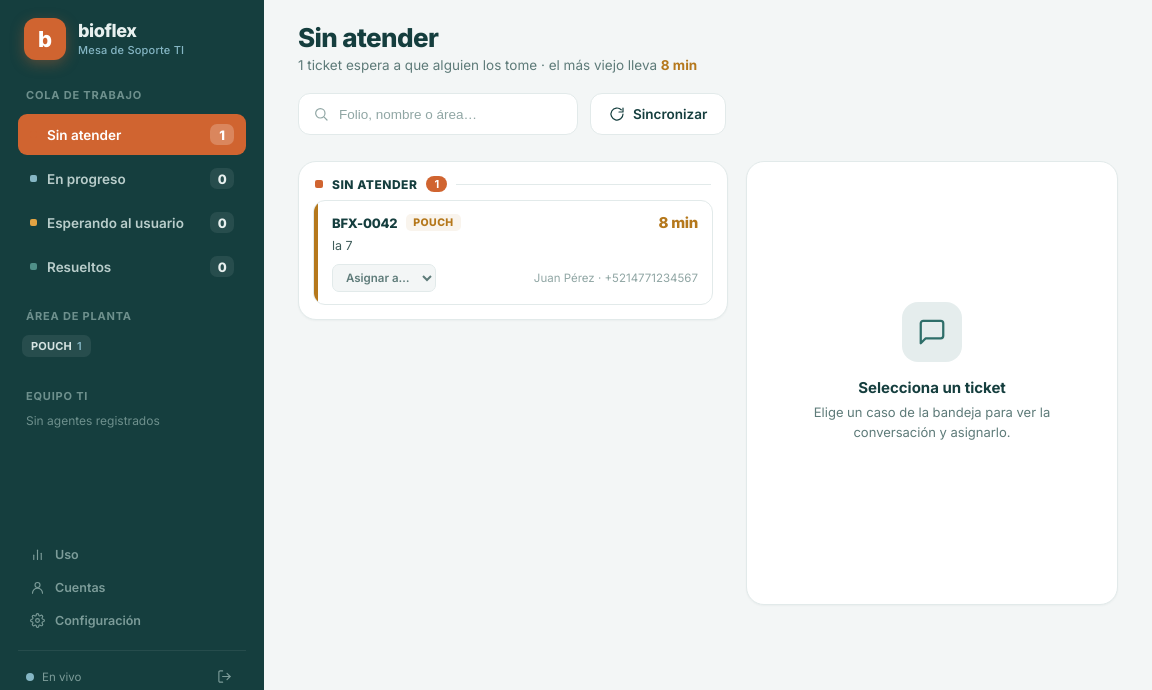
al abrir un ticket recién creado se ve la conversación
Expected: the text "BFX-0042" is shown, x1=332 y1=214 x2=397 y2=230
Click the element with class "bf-fila". click: (365, 222)
box: x1=314 y1=201 x2=712 y2=304
(page scrolled)
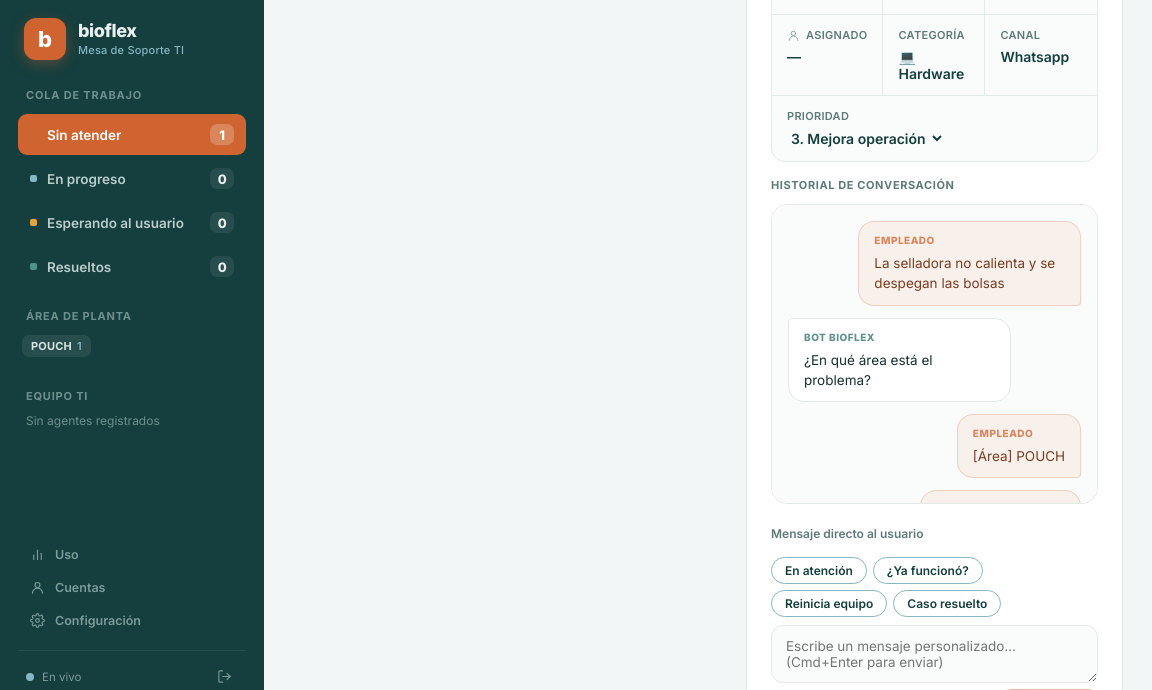
Expected: the element with class "bf-chat" is shown, x1=771 y1=204 x2=1098 y2=504
Expected: the element with class "bf-chat" shows "La selladora no calienta", x1=874 y1=255 x2=1055 y2=291
Expected: the number of elements with class "bf-bubble" is 4
